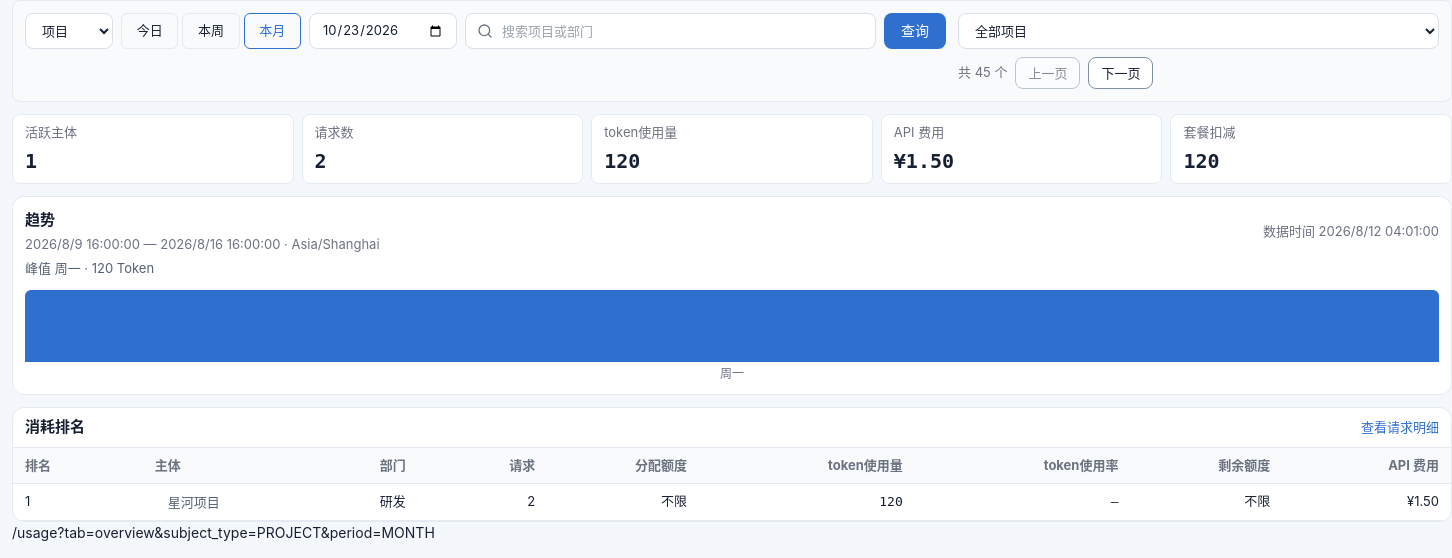
Test: W20-04 用量概览 Web › 唯一精确匹配按 Enter 立即应用主体并刷新 URL 口径
Step 1. Type "星河项目" into the search field named "搜索用量主体" → (670, 31), box top-left (465, 13), bottom-right (876, 49)
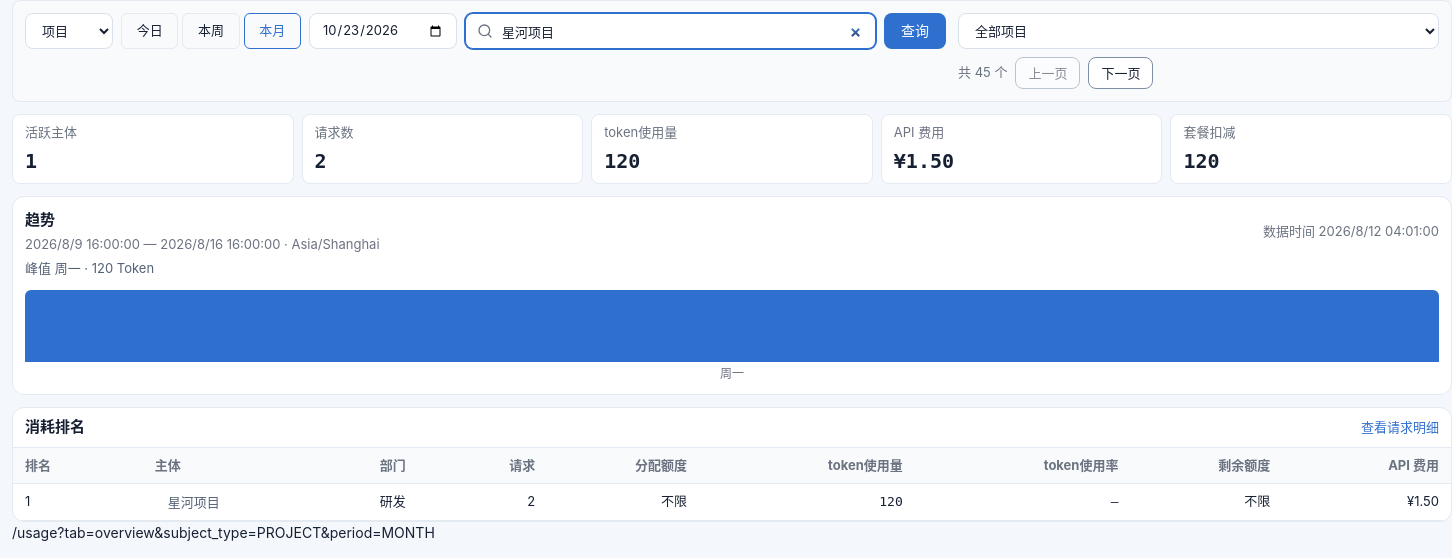
Step 2. Press Enter
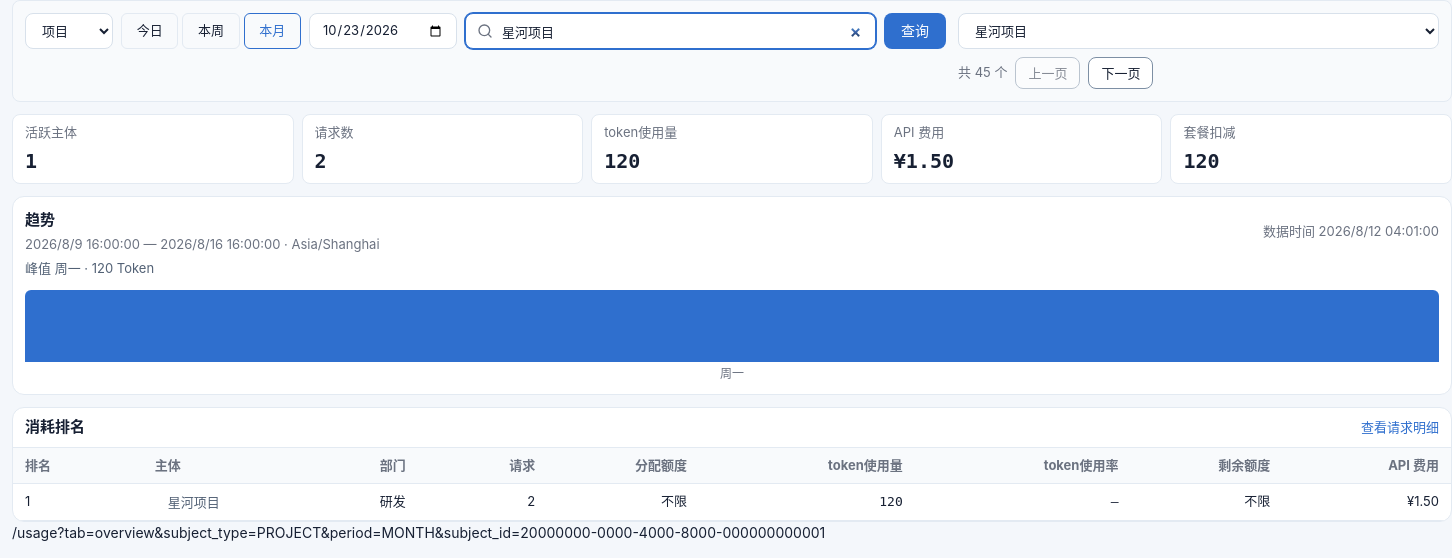
Expected: the text with test id "location" shows "subject_id=20000000-0000-4000-8000-000000000001", top-left (57, 524), bottom-right (825, 540)
